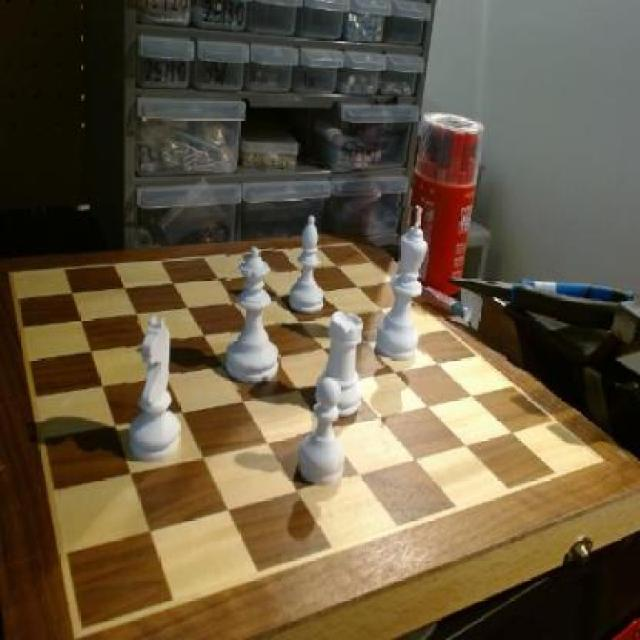black-rook: (289, 212, 325, 318)
white-bishop: (377, 208, 429, 369)
white-king: (126, 318, 181, 462)
white-knight: (297, 378, 349, 492)
white-pawn: (226, 245, 279, 390)
white-queen: (314, 304, 369, 428)
